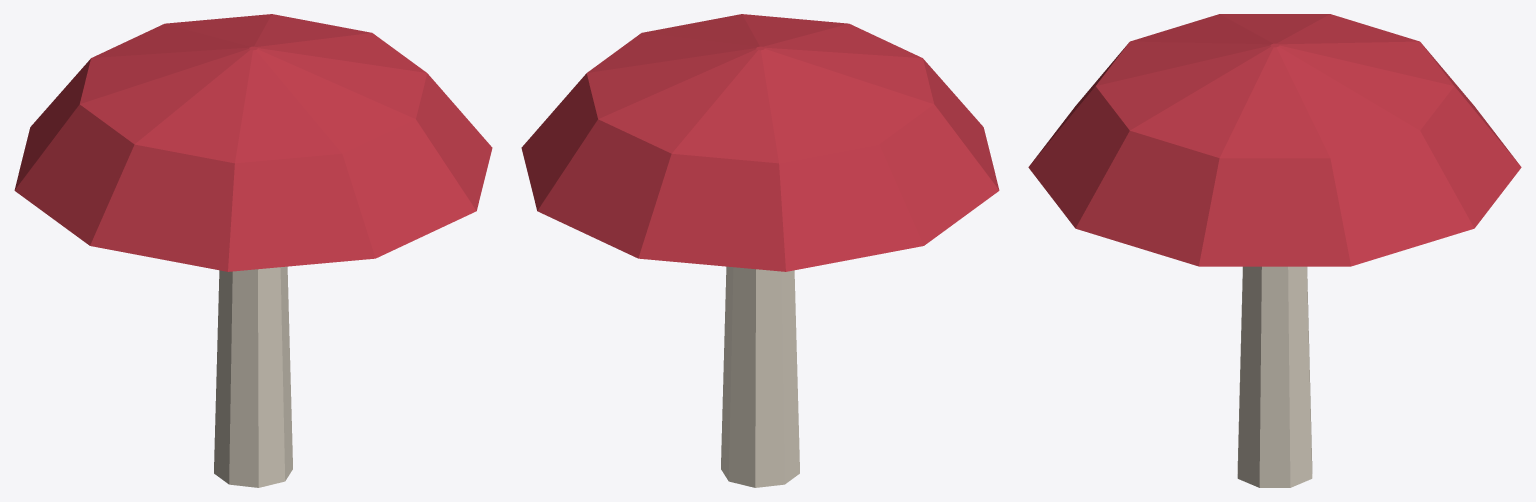
The model's file is mushroom_giant.glb.
3 renders of one model, left to right at view 1: azimuth 30°, elevation 25°; view 2: azimuth 150°, elevation 25°; view 3: azimuth 270°, elevation 25°, orthographic.
Parts seen in each view (by area): view 1: mushroom_giant; view 2: mushroom_giant; view 3: mushroom_giant.
Boxes of the visible parts, x1,y1,x2,y2 form: mushroom_giant: (14,14,492,487); mushroom_giant: (521,14,999,487); mushroom_giant: (1028,14,1521,487).
Bounding box in the file's own units: 2.09 × 2.1 × 2.2.
